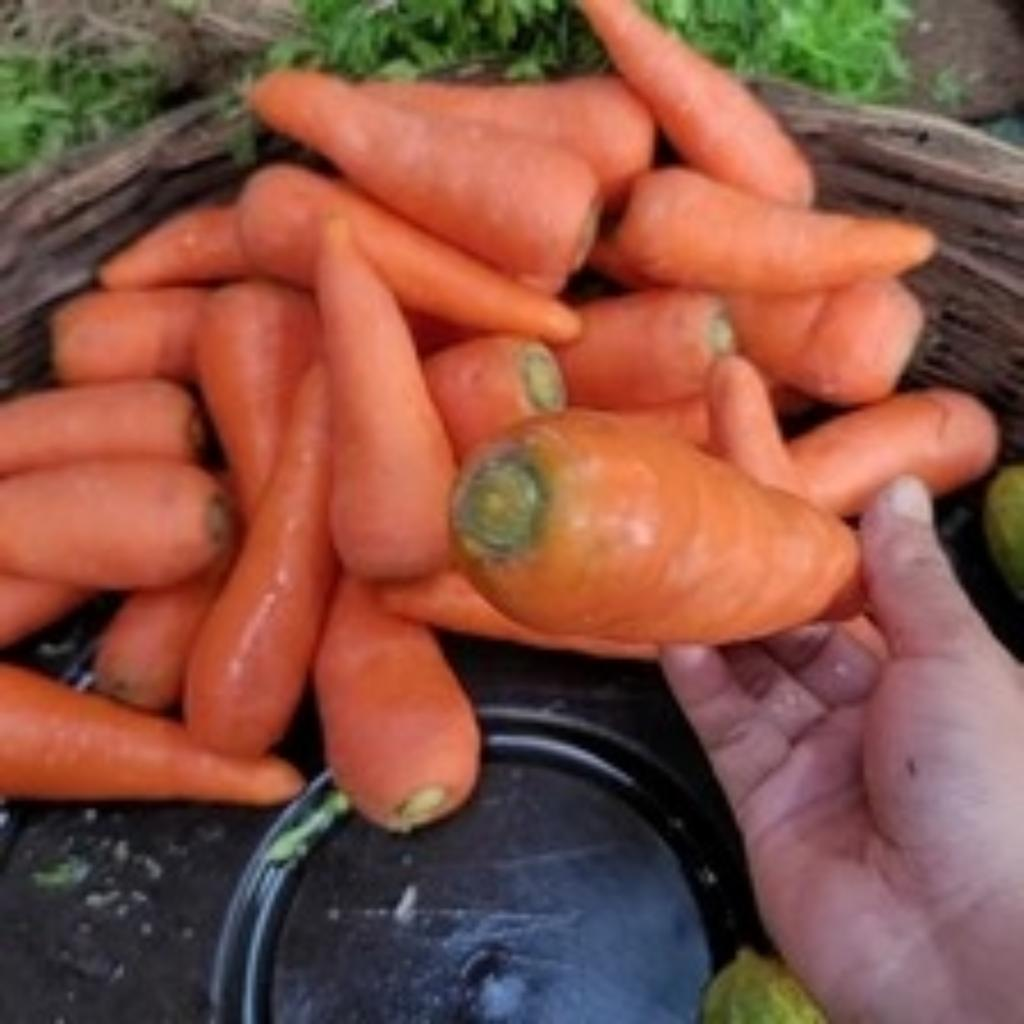carrot: (0, 0, 987, 818)
